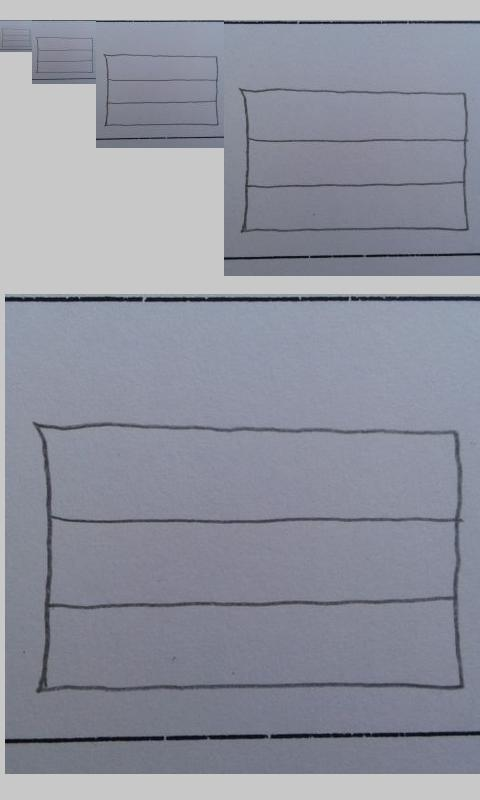list_view: (36, 419, 467, 700), (241, 85, 470, 236), (103, 52, 221, 128), (35, 35, 95, 75), (1, 28, 31, 48)
